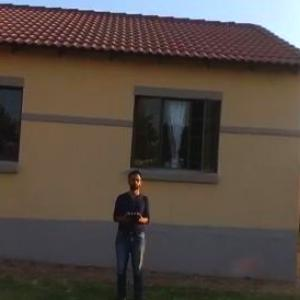follow: (110, 162, 154, 299)
